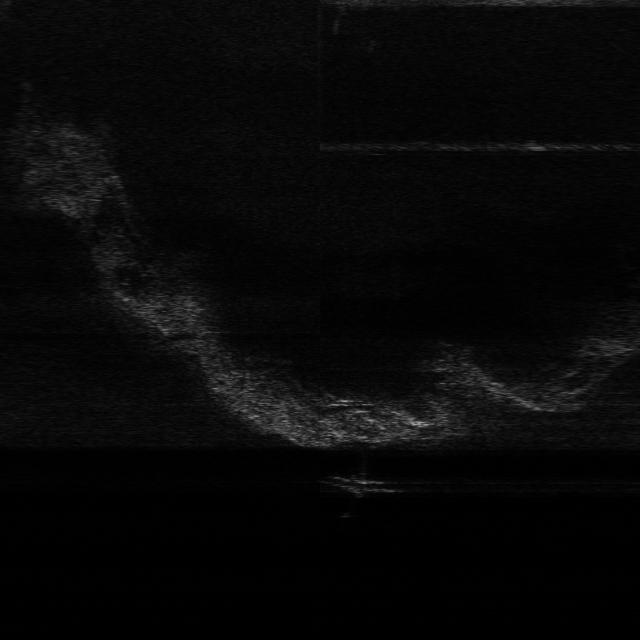plane: (320, 470, 404, 498)
